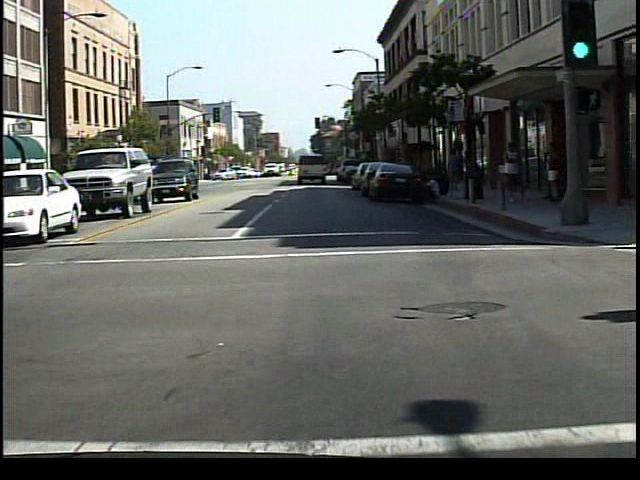person: (498, 136, 533, 212), (443, 143, 466, 199)
